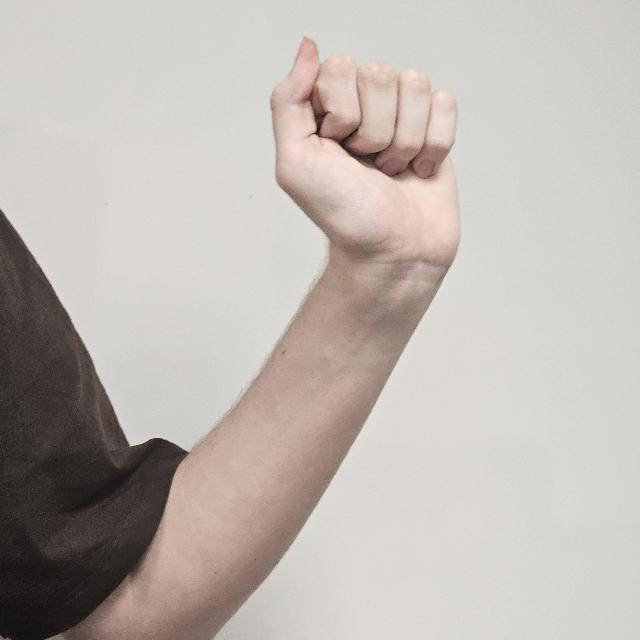Quadro: (272, 28, 468, 278)
